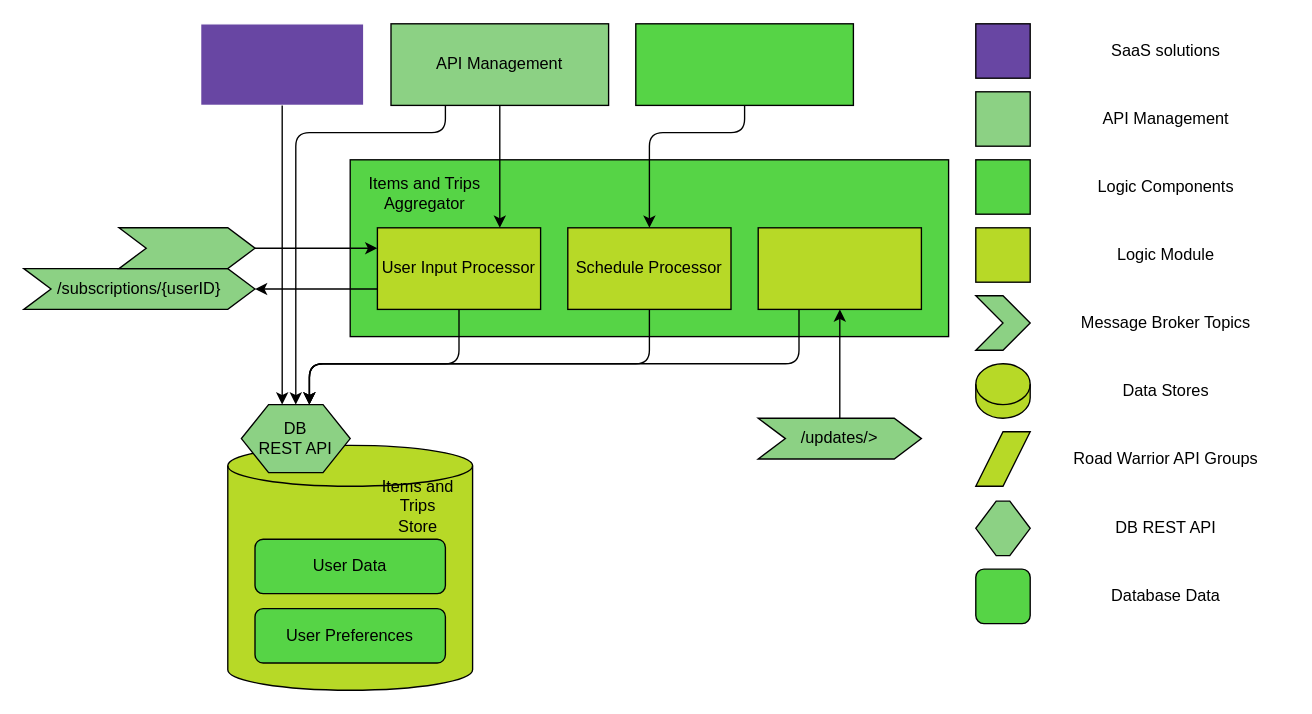
Image size: 1312x714. Some labels were removed from this diagram. Here are the shapes that lost their labels. From the top down, the centre of each, then its label:
pixel 281 63: Reporting and Analytics
pixel 743 63: Travel Schedule Poller
pixel 186 247: /inputs/>
pixel 839 267: Updates Processor
